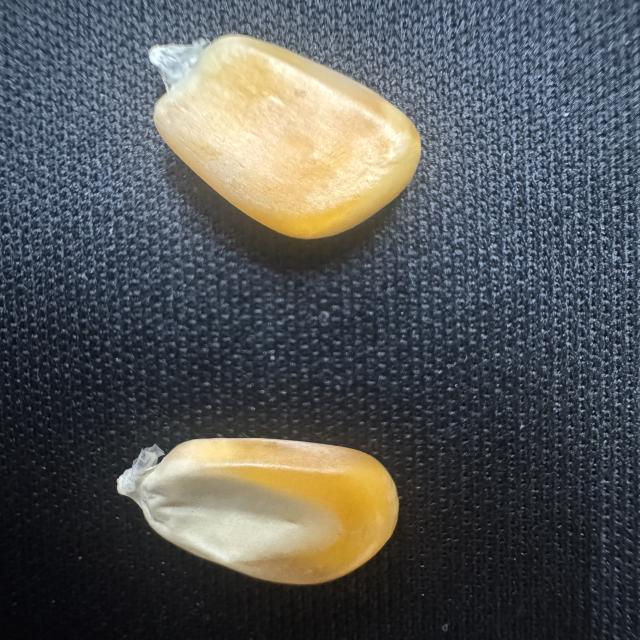Good-Seed: (130, 24, 431, 247), (97, 423, 406, 598)
